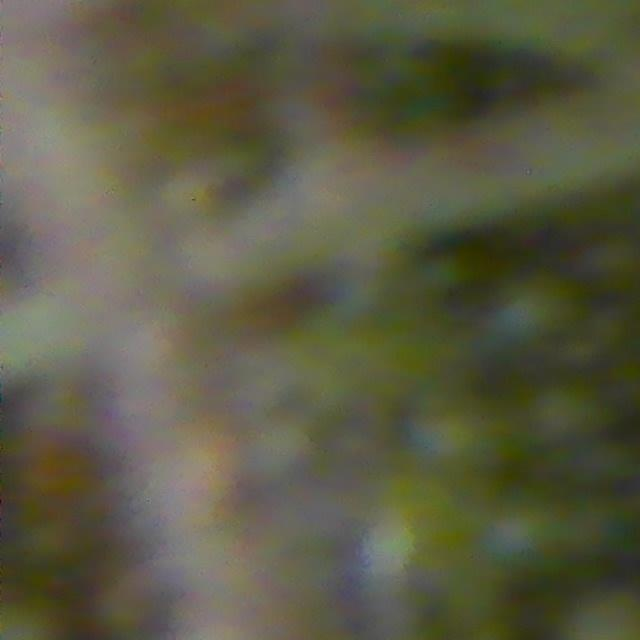SeaGrape: (487, 273, 577, 351)
